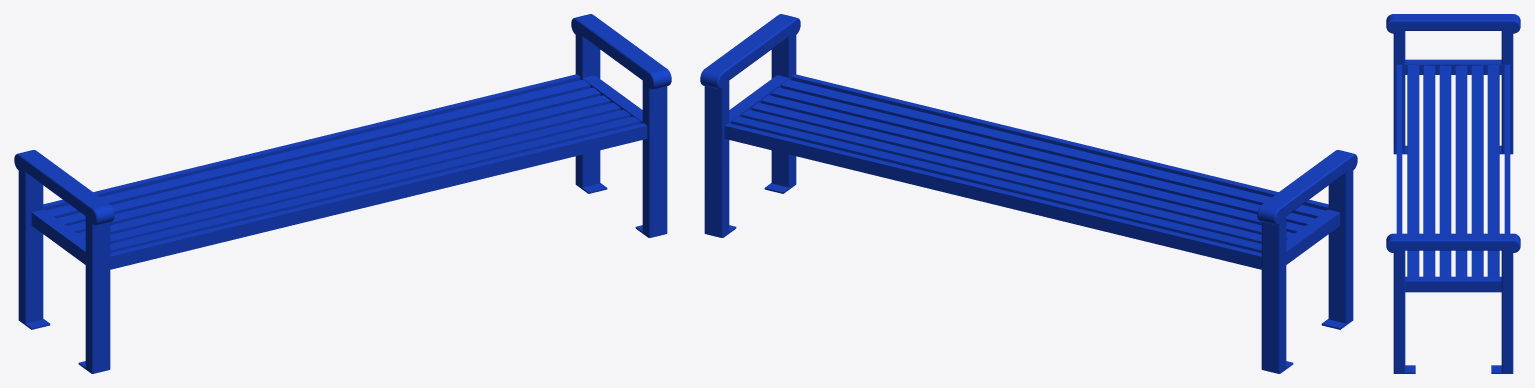
3 views of the same model, side by side, from view 1: azimuth 30°, elevation 25°; view 2: azimuth 150°, elevation 25°; view 3: azimuth 270°, elevation 25° (orthographic). The views are drawn at different scales.
Visible parts, largest first — view 1: mesh1_mesh1-geometry; view 2: mesh1_mesh1-geometry; view 3: mesh1_mesh1-geometry.
Part boxes in pixels (box(x1,y1,x2,y2)): mesh1_mesh1-geometry: box(14, 14, 671, 373); mesh1_mesh1-geometry: box(700, 14, 1357, 373); mesh1_mesh1-geometry: box(1386, 14, 1520, 373).
Bounding box in the file's own units: 0.9375 × 0.2573 × 0.2344.
